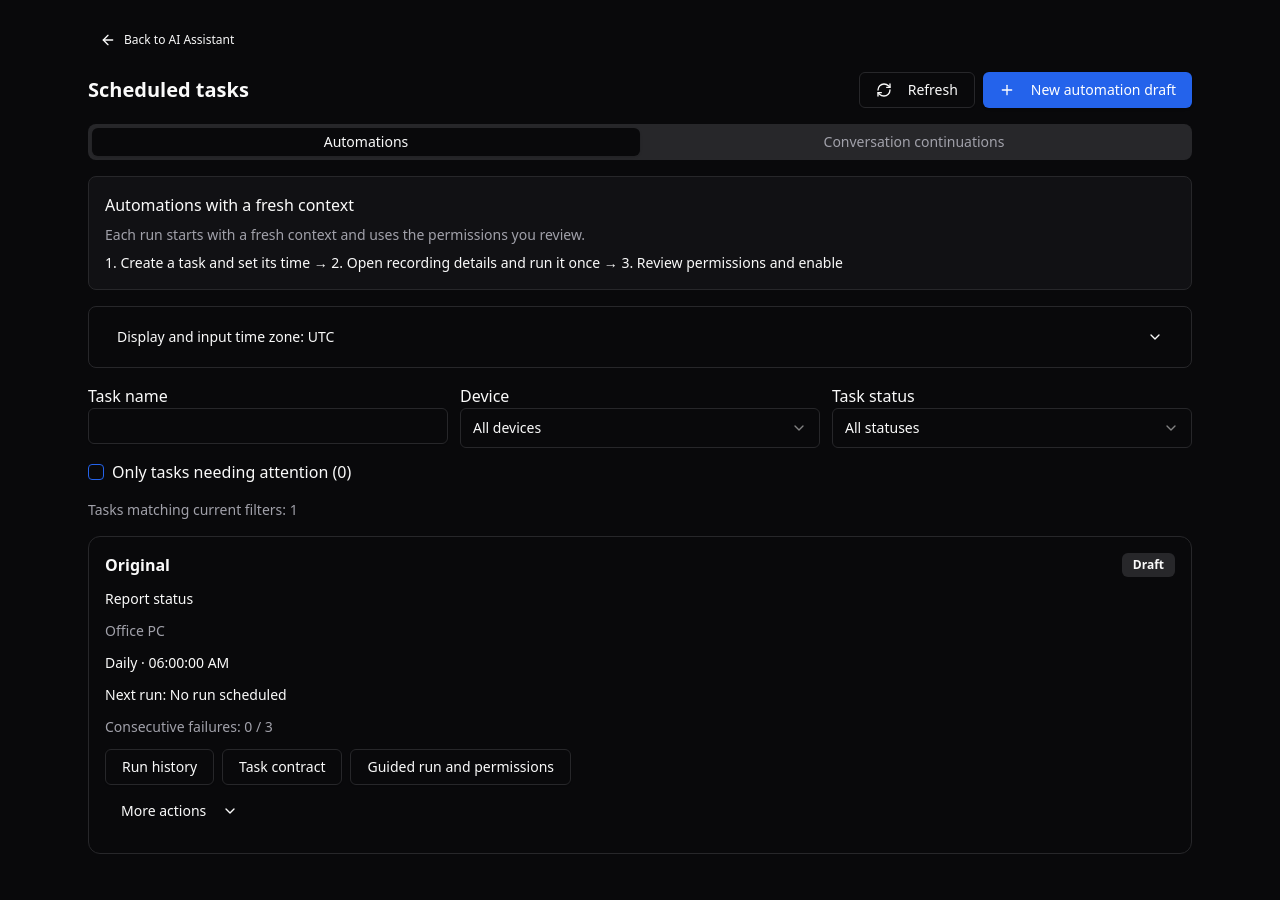
scheduled task management page › changing display timezone and switching tabs never changes the persisted schedule
Check: the heading "Original" is shown, box [105,553,170,577]
Click the button "More actions". click: [180, 811]
box: [105,793,254,829]
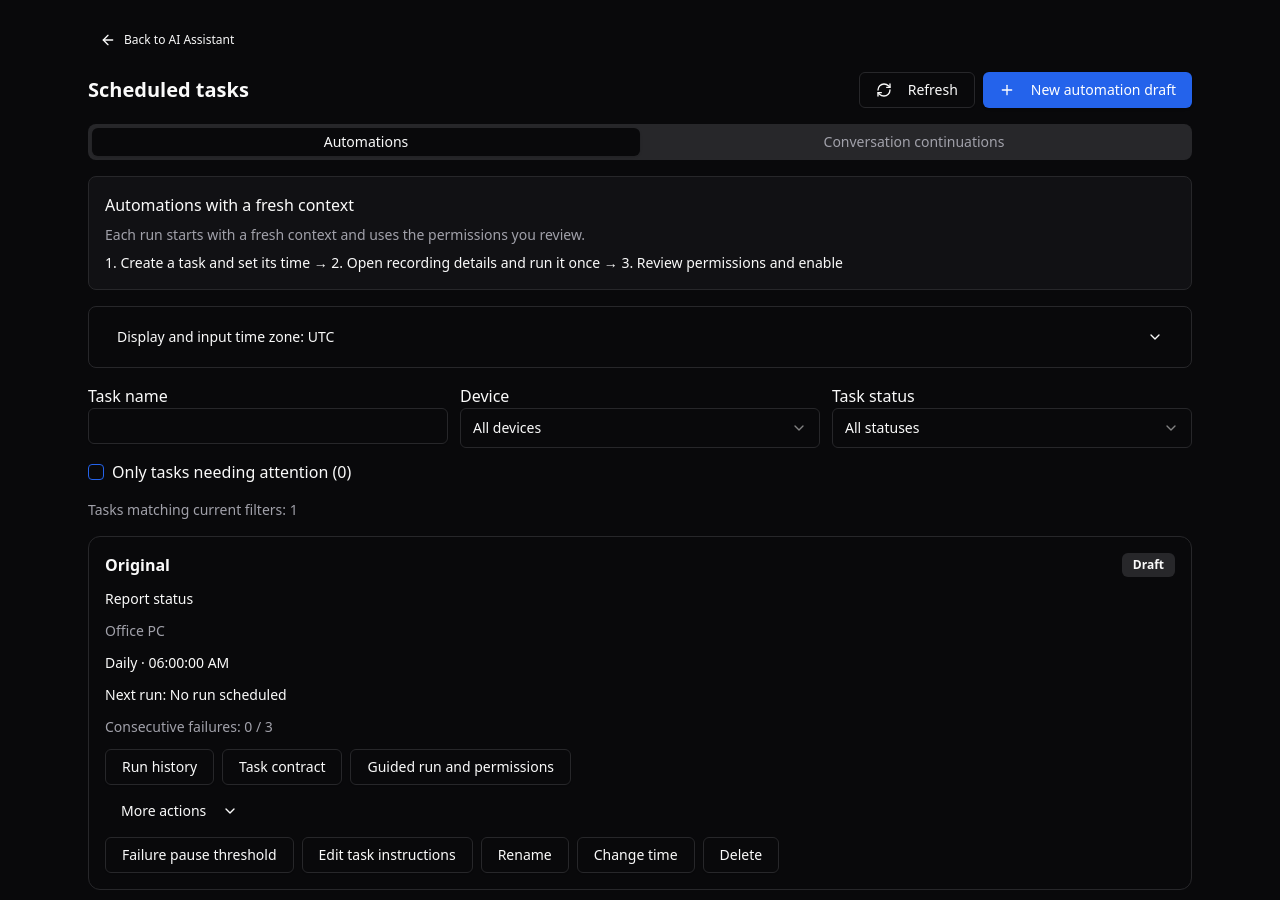
Click the button "Display and input time zone: UTC". click: [209, 336]
box: [101,319,1179,355]
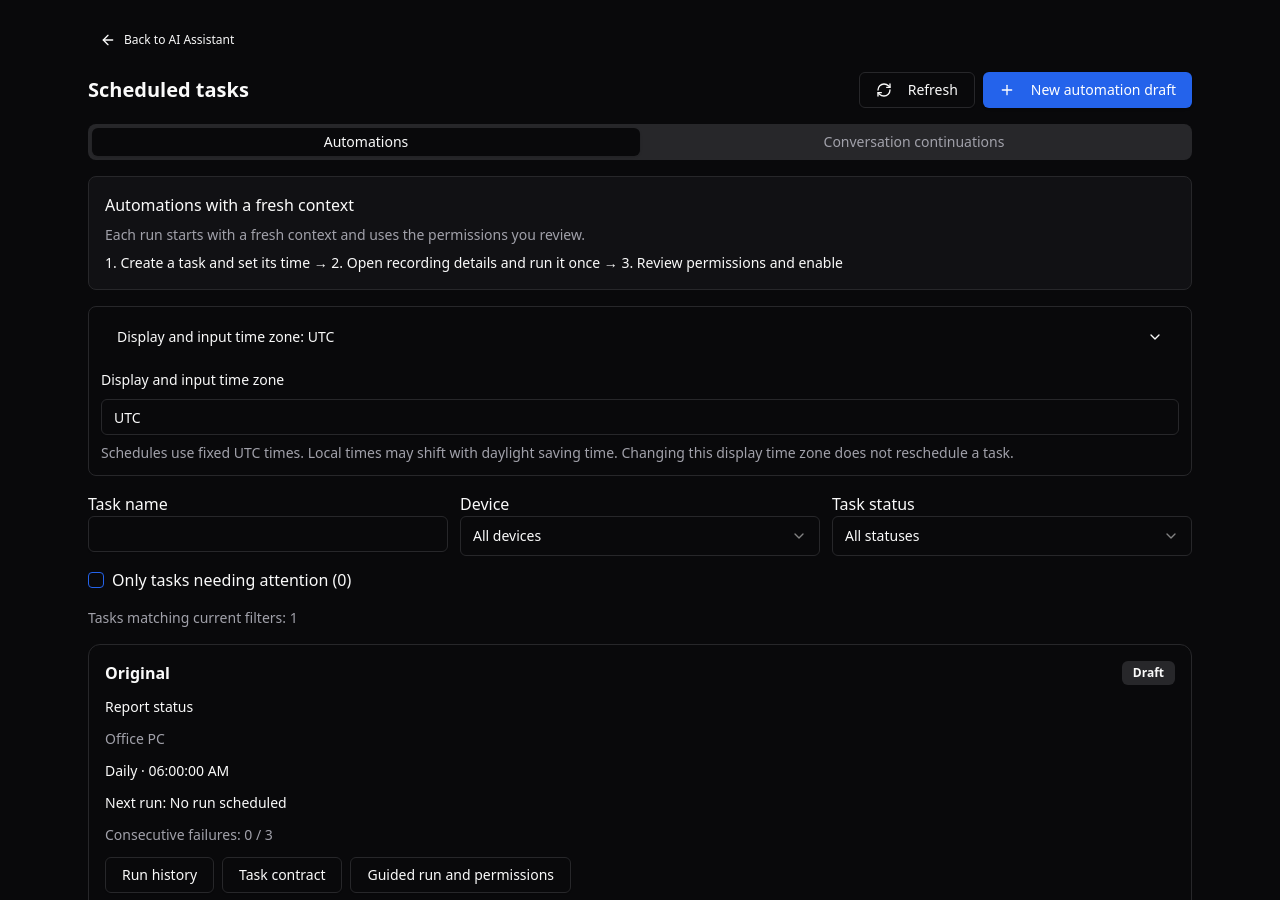
Replace the text in the field labelled "Display and input time zone" with "Asia/Shanghai". click: [640, 417]
box: [101,399,1179,435]
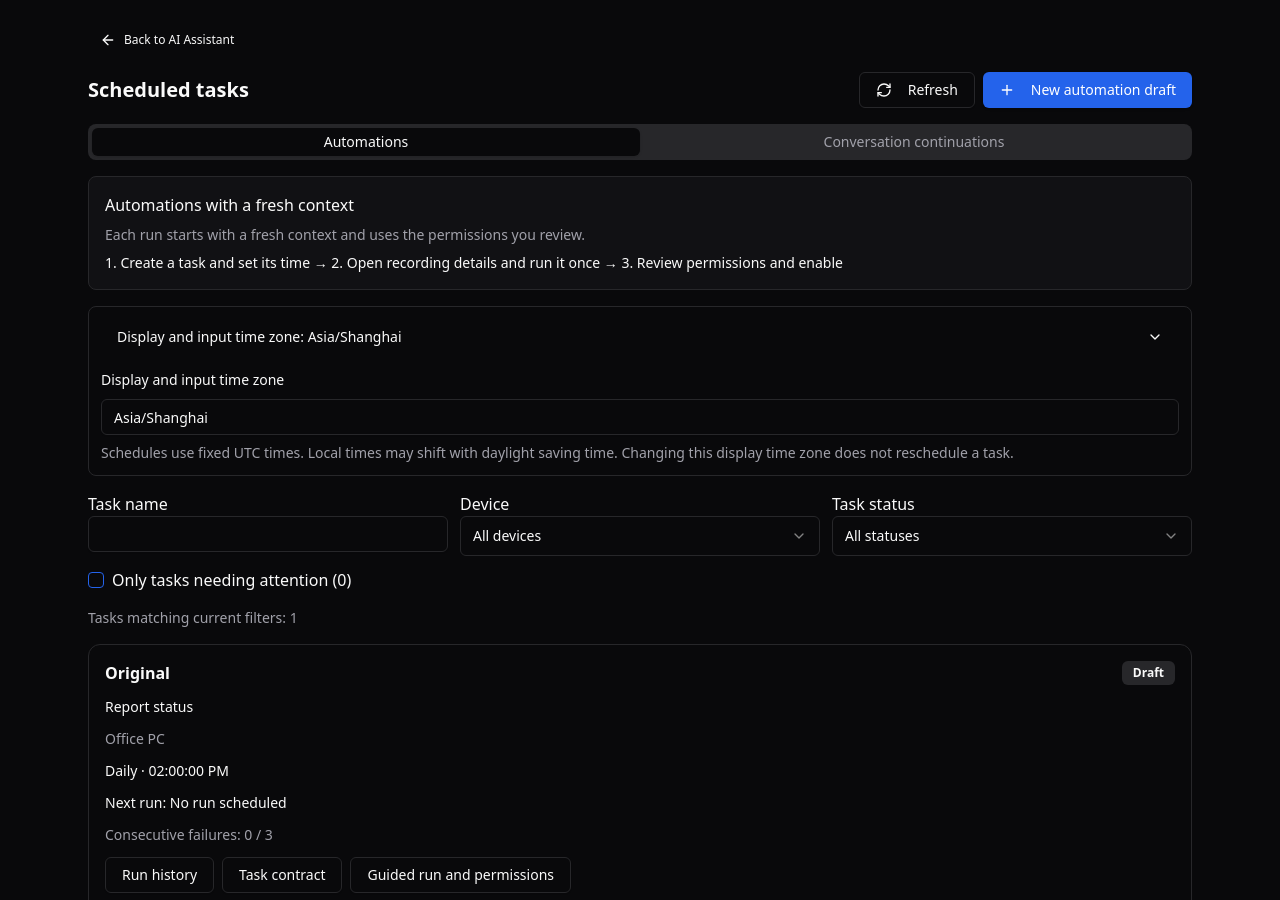
Click the tab "Conversation continuations". click: [914, 142]
box: [640,128,1188,156]
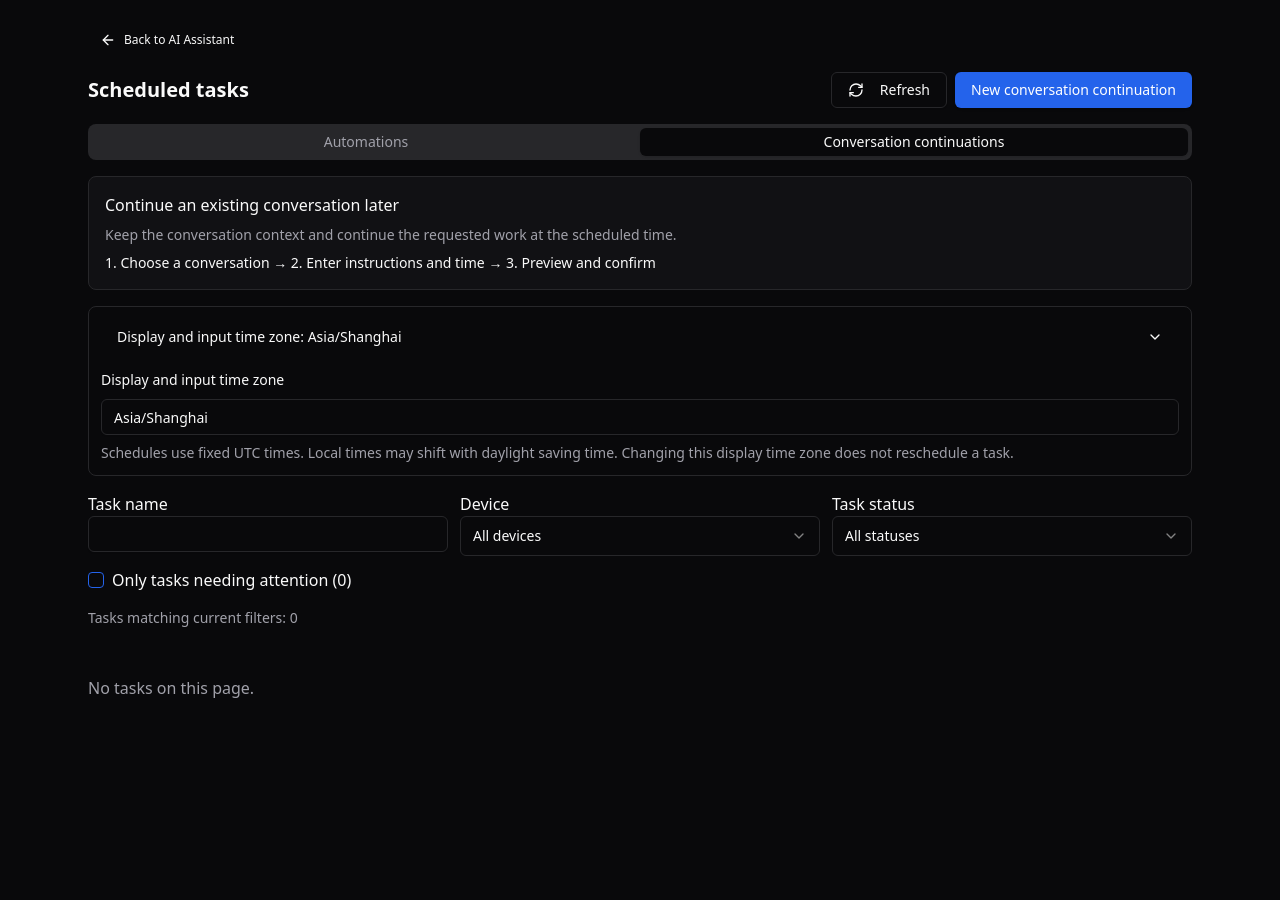
Check: the heading "Original" is gone
